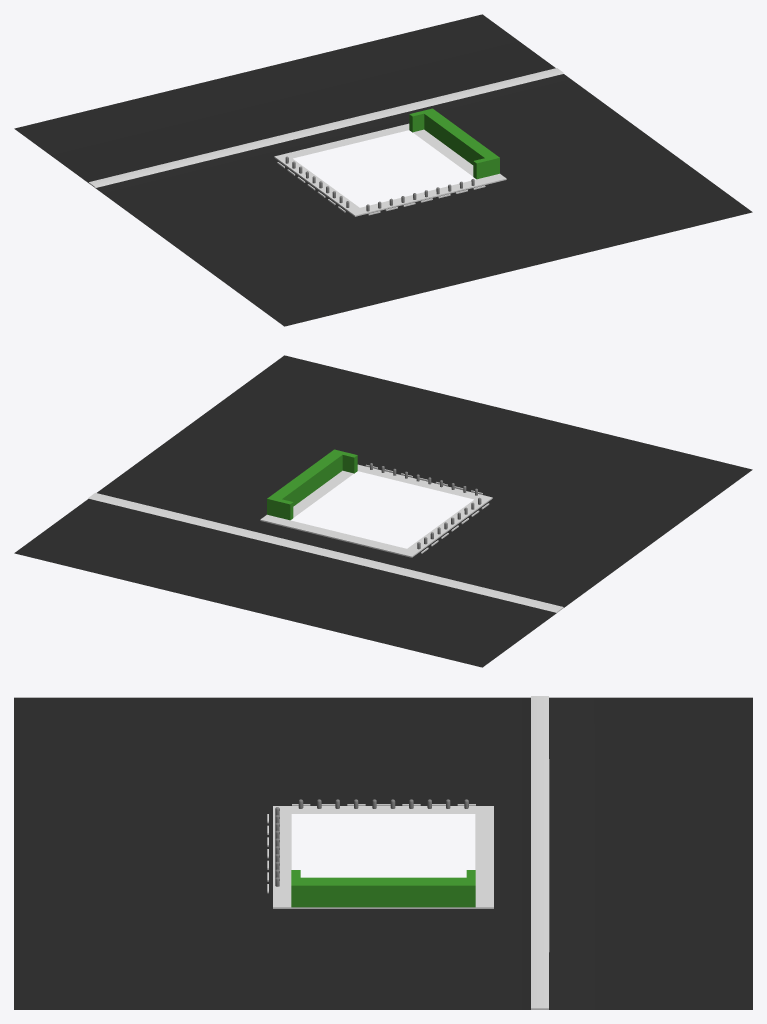
The model's file is background 2.glb.
The picture shows the model from 3 angles, top to bottom: view 1: azimuth 30°, elevation 25°; view 2: azimuth 150°, elevation 25°; view 3: azimuth 270°, elevation 25°; orthographic projection. The views are drawn at different scales.
Parts seen in each view (by area): view 1: Plane; view 2: Plane; view 3: Plane.
Part boxes in pixels (x1=…): Plane: x1=14, y1=14, x2=752, y2=326; Plane: x1=14, y1=355, x2=752, y2=667; Plane: x1=14, y1=696, x2=752, y2=1009.
Bounding box in the file's own units: 80.3 × 2.94 × 80.3.
Materials: 4 (1 with a texture image).
